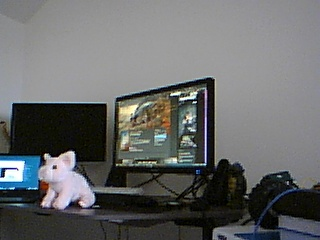piggy: (37, 149, 96, 210)
